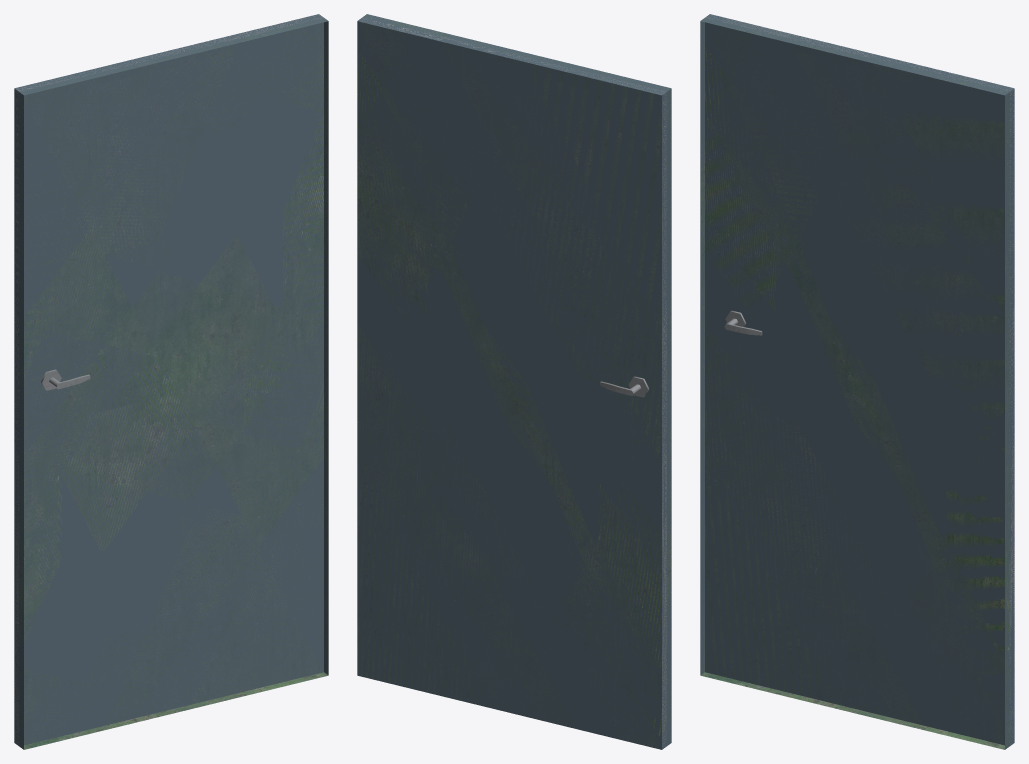
File: SM_CampCabin_Door.fbx
The picture shows the model from 3 angles, left to right: view 1: azimuth 30°, elevation 25°; view 2: azimuth 150°, elevation 25°; view 3: azimuth 330°, elevation 25°; orthographic projection.
Visible parts, largest first — view 1: SM_CampCabin_Door; view 2: SM_CampCabin_Door; view 3: SM_CampCabin_Door.
Boxes of the visible parts, x1=… form: SM_CampCabin_Door: x1=14, y1=14, x2=328, y2=749; SM_CampCabin_Door: x1=357, y1=14, x2=671, y2=749; SM_CampCabin_Door: x1=700, y1=14, x2=1014, y2=749.
Size of the model in its own units: 12.8 by 98.32 by 202.
5 materials, 3 textured.
